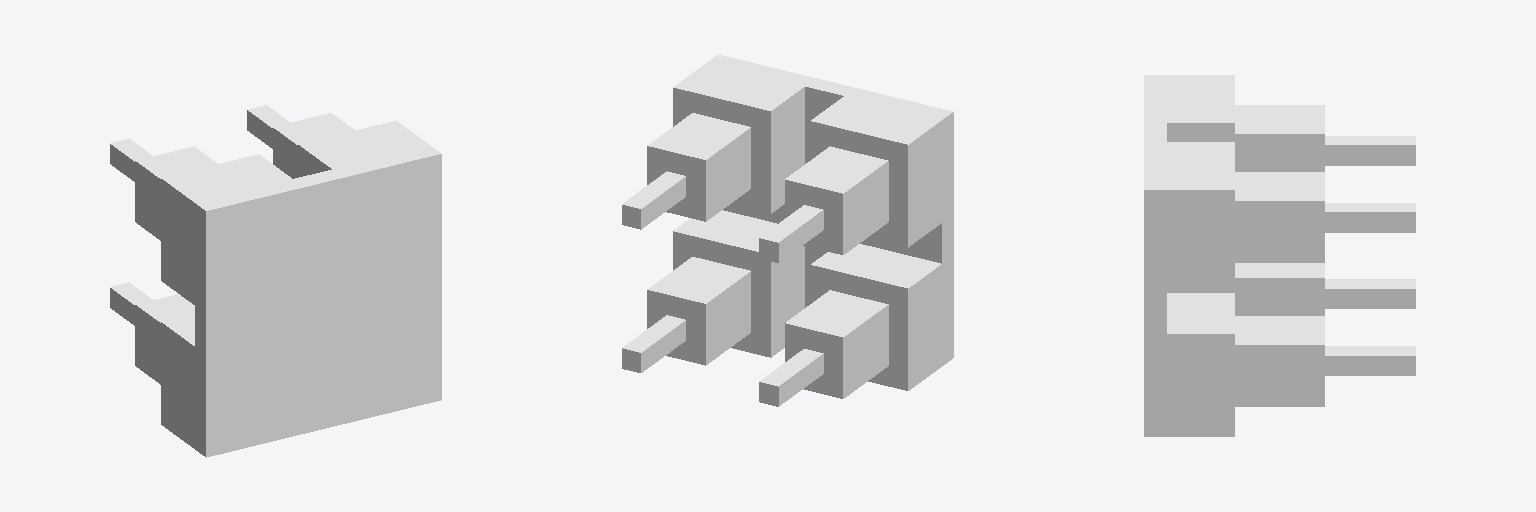
Rendered from SpikesTile.obj.
3 views of the same model, side by side, from view 1: azimuth 30°, elevation 25°; view 2: azimuth 150°, elevation 25°; view 3: azimuth 270°, elevation 25° (orthographic).
Parts seen in each view (by area): view 1: object 1; view 2: object 1; view 3: object 1.
Part boxes in pixels (bbox=[...]): object 1: bbox=[110, 105, 441, 457]; object 1: bbox=[622, 54, 953, 406]; object 1: bbox=[1144, 75, 1415, 436].
Bounding box in the file's own units: 1.2 × 1.2 × 1.2.